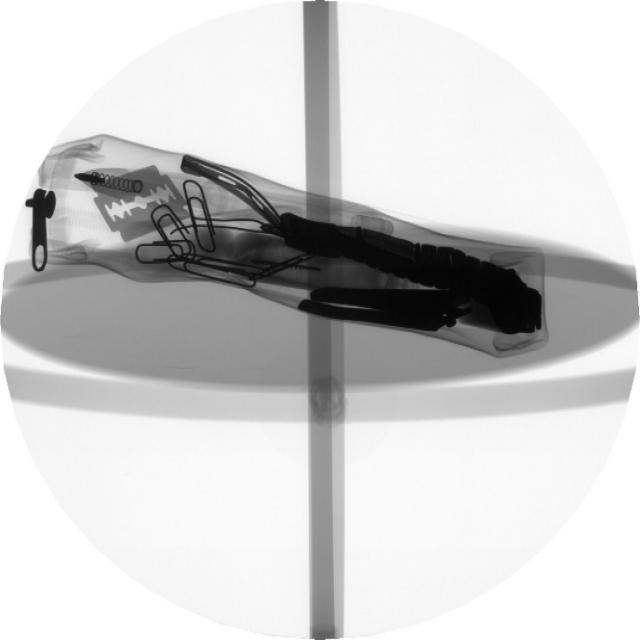BLADE: (85, 172, 190, 251)
